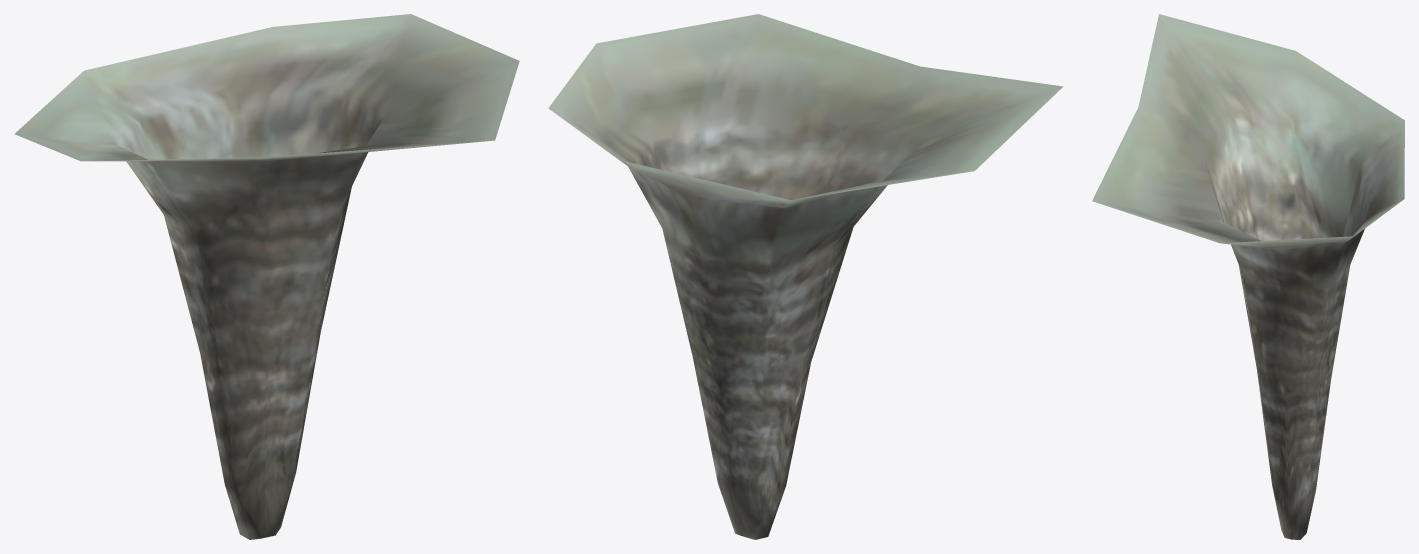
Rendered from TROLLHOLE02_PS-MAINSTALAG69.fbx.
3 views of the same model, side by side, from view 1: azimuth 30°, elevation 25°; view 2: azimuth 150°, elevation 25°; view 3: azimuth 270°, elevation 25° (orthographic). The views are drawn at different scales.
Visible parts, largest first — view 1: TROLLHOLE02_PS-MAINSTALAG69; view 2: TROLLHOLE02_PS-MAINSTALAG69; view 3: TROLLHOLE02_PS-MAINSTALAG69.
Part boxes in pixels (bbox=[...]): TROLLHOLE02_PS-MAINSTALAG69: bbox=[14, 14, 519, 539]; TROLLHOLE02_PS-MAINSTALAG69: bbox=[548, 14, 1063, 539]; TROLLHOLE02_PS-MAINSTALAG69: bbox=[1092, 14, 1404, 539].
Size of the model in its own units: 25086 by 25223 by 17110.
1 material, 1 textured.
